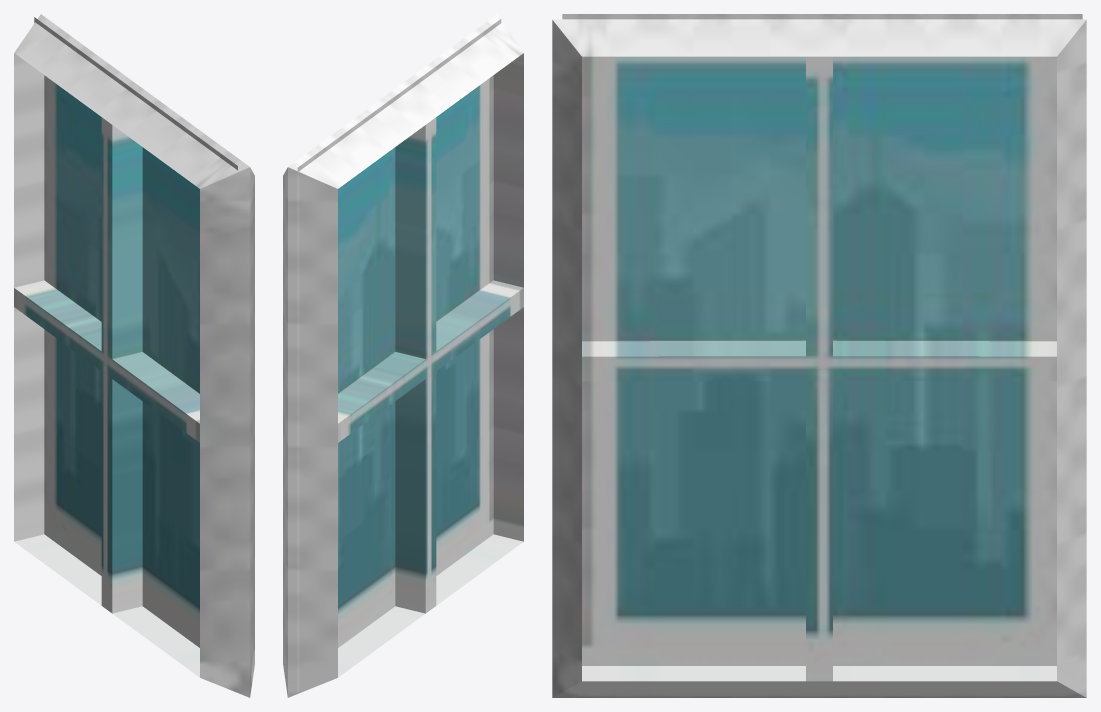
The model's file is VentanaBlanca.FBX.
3 views of the same model, side by side, from view 1: azimuth 30°, elevation 25°; view 2: azimuth 150°, elevation 25°; view 3: azimuth 270°, elevation 25° (orthographic). The views are drawn at different scales.
Parts seen in each view (by area): view 1: Torus001; view 2: Torus001; view 3: Torus001.
Part boxes in pixels (x1,y1,x2,y2): Torus001: [14, 14, 254, 697]; Torus001: [283, 14, 523, 697]; Torus001: [552, 14, 1086, 697].
Bounding box in the file's own units: 0.8975 × 8.29 × 5.92.
